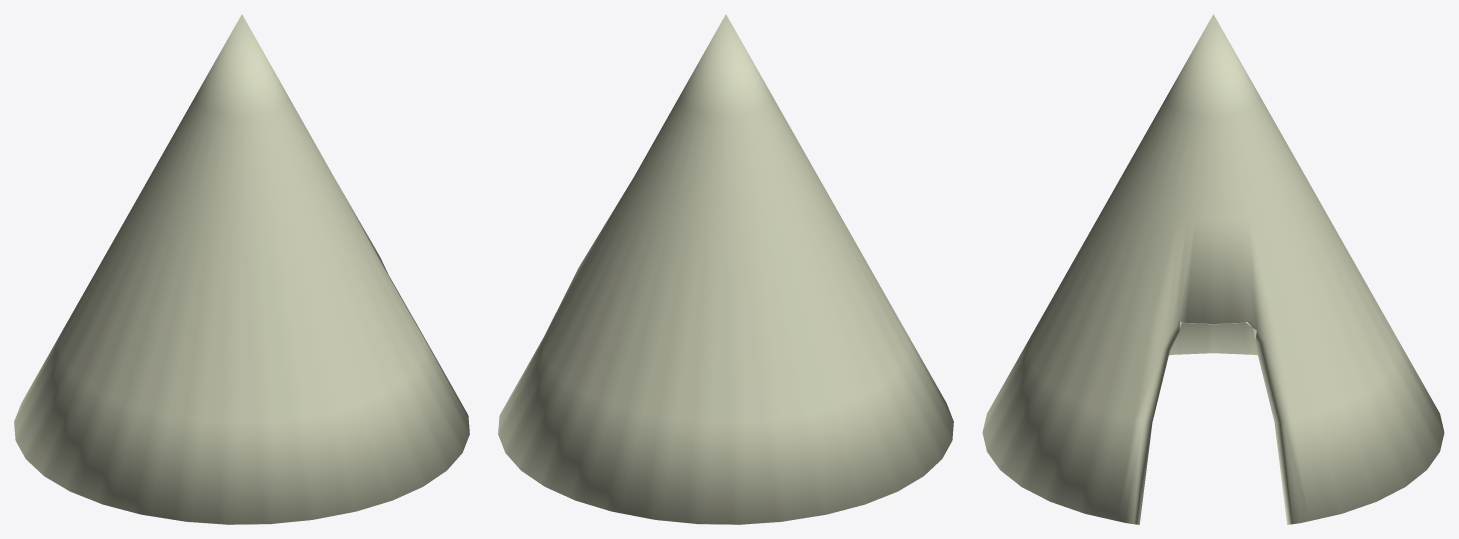
Rendered from teepee_hut.fbx.
The picture shows the model from 3 angles, left to right: view 1: azimuth 30°, elevation 25°; view 2: azimuth 150°, elevation 25°; view 3: azimuth 270°, elevation 25°; orthographic projection.
Visible parts, largest first — view 1: Cone; view 2: Cone; view 3: Cone.
Boxes of the visible parts, bbox=[...] form: Cone: bbox=[14, 14, 469, 524]; Cone: bbox=[498, 14, 953, 524]; Cone: bbox=[982, 14, 1444, 524].
Bounding box in the file's own units: 581 × 613 × 600.
